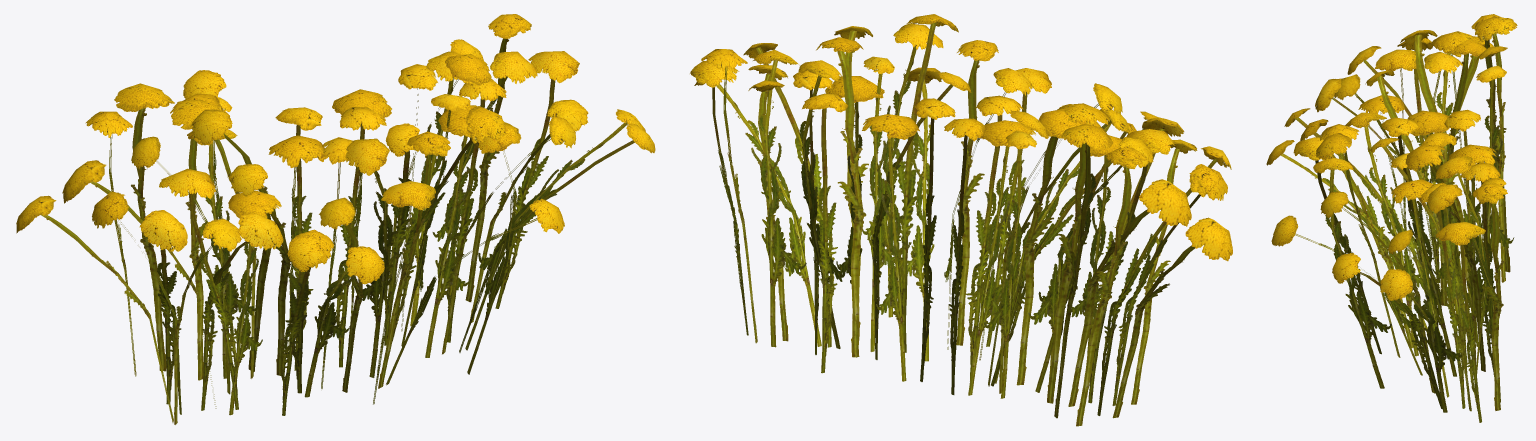
File: NaturePlant07_5.FBX
The picture shows the model from 3 angles, left to right: view 1: azimuth 30°, elevation 25°; view 2: azimuth 150°, elevation 25°; view 3: azimuth 270°, elevation 25°; orthographic projection. The views are drawn at different scales.
Parts seen in each view (by area): view 1: NaturePlant07_5; view 2: NaturePlant07_5; view 3: NaturePlant07_5.
Boxes of the visible parts, box(x1,y1,x2,y2) form: NaturePlant07_5: box(16, 14, 655, 424); NaturePlant07_5: box(690, 14, 1232, 426); NaturePlant07_5: box(1266, 14, 1517, 422).
Size of what is drawn, in the model's own units: 2.26 by 1.17 by 1.
